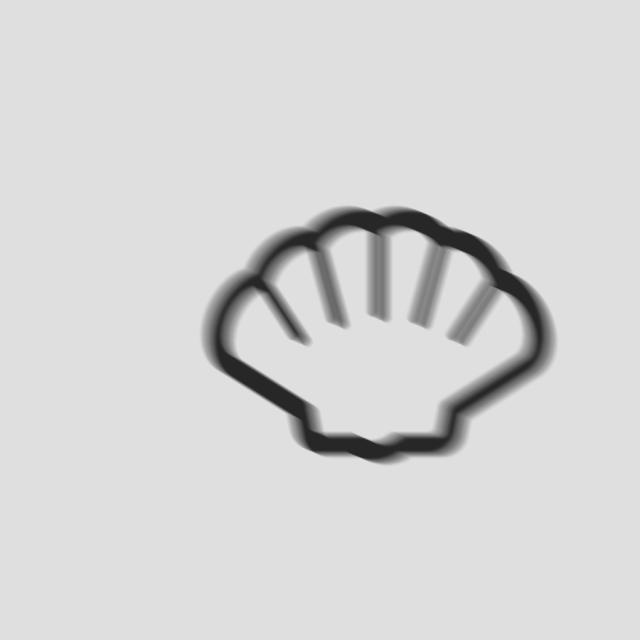shell: (193, 199, 564, 472)
